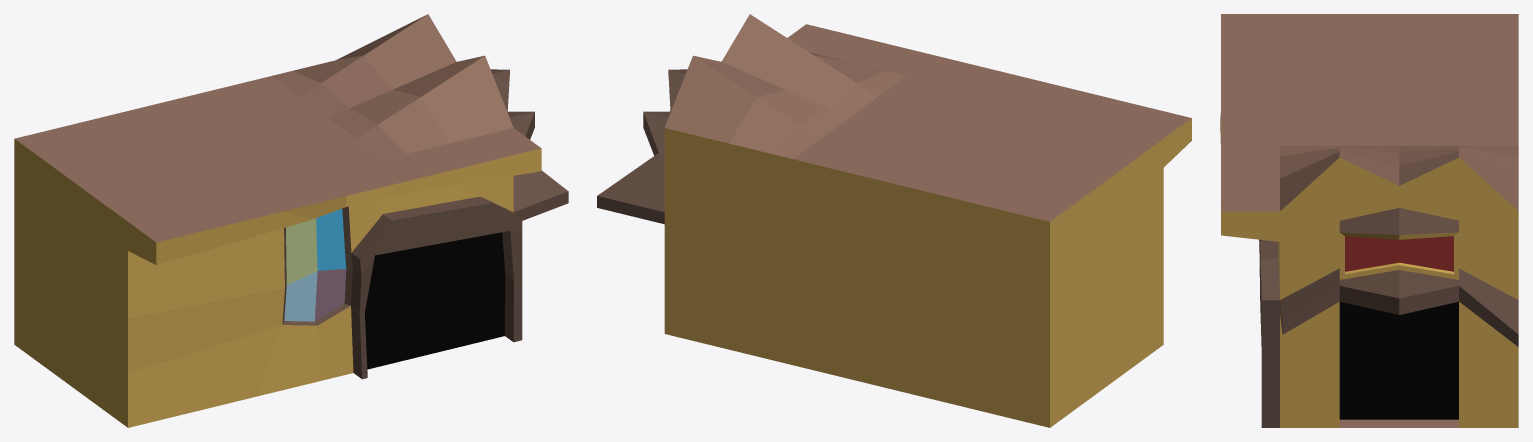
The model's file is 4_building_normals.fbx.
3 renders of one model, left to right at view 1: azimuth 30°, elevation 25°; view 2: azimuth 150°, elevation 25°; view 3: azimuth 270°, elevation 25°, orthographic. The views are drawn at different scales.
Visible parts, largest first — view 1: 16_building; view 2: 16_building; view 3: 16_building.
Boxes of the visible parts, box(x1,y1,x2,y2) form: 16_building: box(14, 14, 568, 427); 16_building: box(597, 14, 1191, 427); 16_building: box(1220, 14, 1518, 427).
Bounding box in the file's own units: 2122 × 1126 × 1127.
